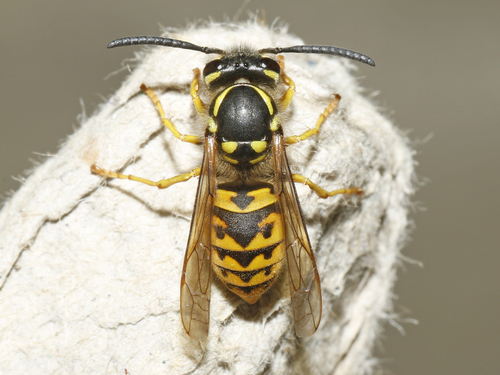chax: (77, 24, 412, 347)
